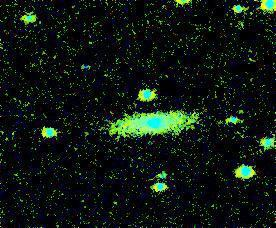star: (227, 94, 257, 124)
